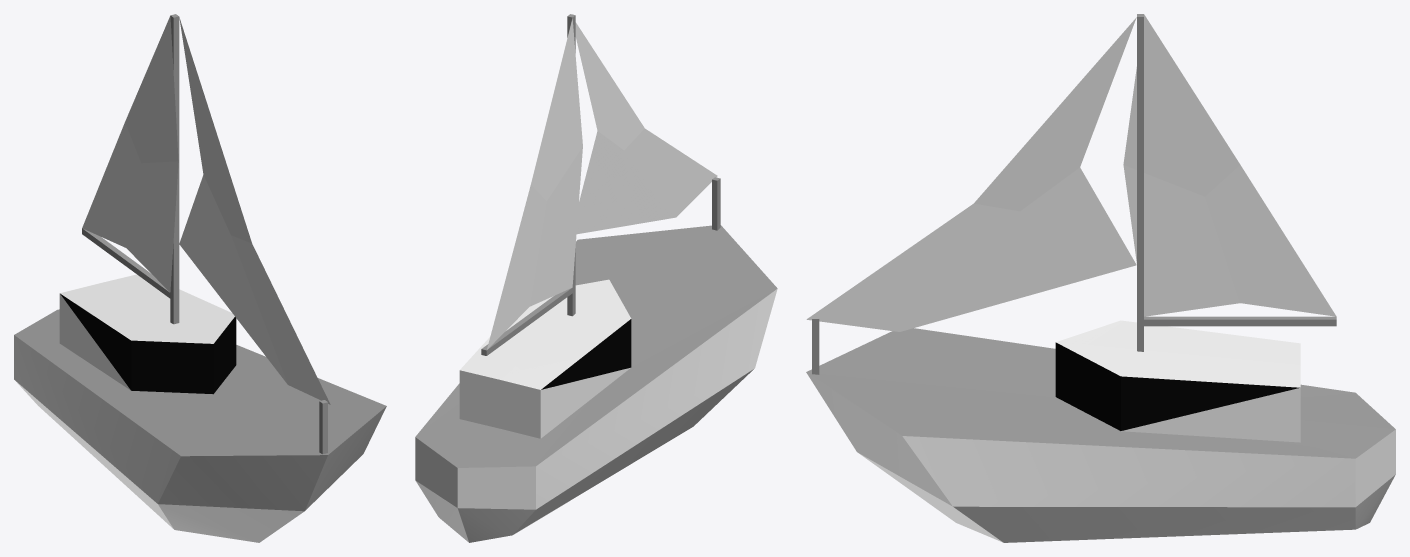
The model's file is SailBoatA.fbx.
3 views of the same model, side by side, from view 1: azimuth 30°, elevation 25°; view 2: azimuth 150°, elevation 25°; view 3: azimuth 270°, elevation 25° (orthographic). The views are drawn at different scales.
Visible parts, largest first — view 1: SailBoatA; view 2: SailBoatA; view 3: SailBoatA.
Boxes of the visible parts, <box> form: SailBoatA: <box>14,14,386,542</box>; SailBoatA: <box>415,14,777,542</box>; SailBoatA: <box>806,14,1395,542</box>.
Size of the model in its own units: 434 by 939 by 989.
Materials: 1 (1 with a texture image).
